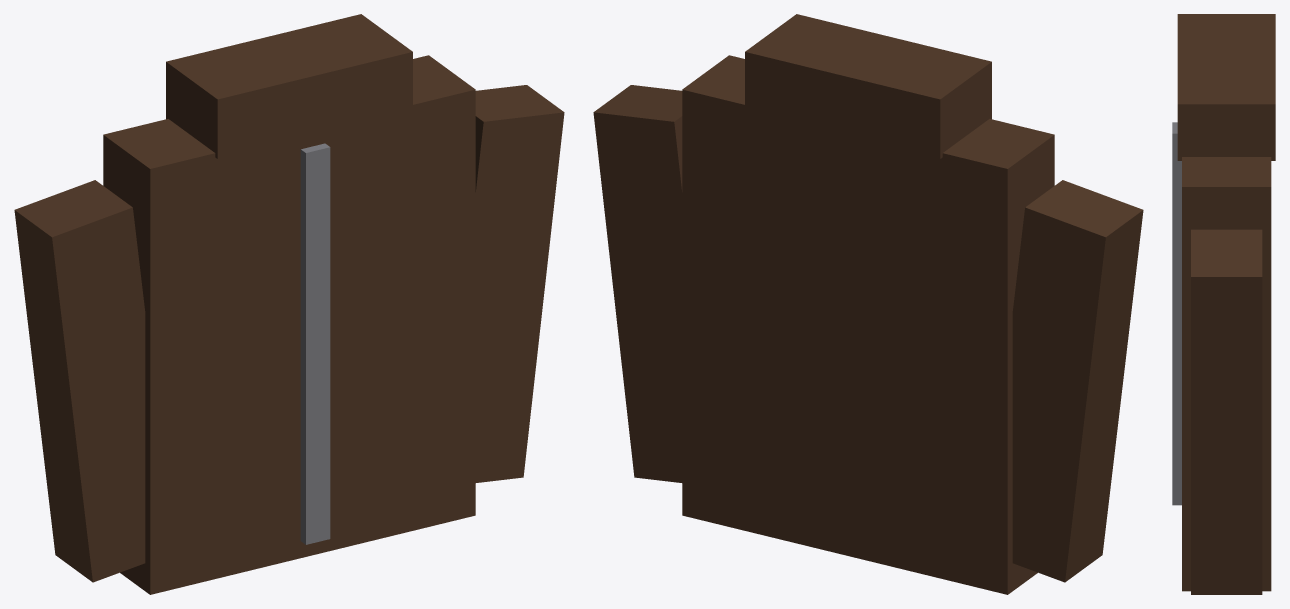
Rendered from PRP_P0_Uniform_Jacket_A.obj.
The picture shows the model from 3 angles, left to right: view 1: azimuth 30°, elevation 25°; view 2: azimuth 150°, elevation 25°; view 3: azimuth 270°, elevation 25°; orthographic projection. The views are drawn at different scales.
Visible parts, largest first — view 1: torso, sleeve_l, sleeve_r, collar, placket; view 2: torso, sleeve_l, sleeve_r, collar; view 3: sleeve_r, collar, torso, placket.
Boxes of the visible parts, x1,y1,x2,y2 form: torso: (103, 55, 475, 594); sleeve_l: (14, 180, 145, 582); sleeve_r: (475, 85, 564, 482); collar: (166, 14, 412, 158); placket: (300, 143, 330, 544); torso: (682, 55, 1054, 594); sleeve_l: (1012, 180, 1143, 582); sleeve_r: (593, 85, 682, 482); collar: (745, 14, 991, 158); sleeve_r: (1191, 229, 1262, 594); collar: (1177, 14, 1275, 160); torso: (1182, 157, 1271, 591); placket: (1172, 122, 1181, 505).
Size of the model in its own units: 0.6296 by 0.565 by 0.116.
